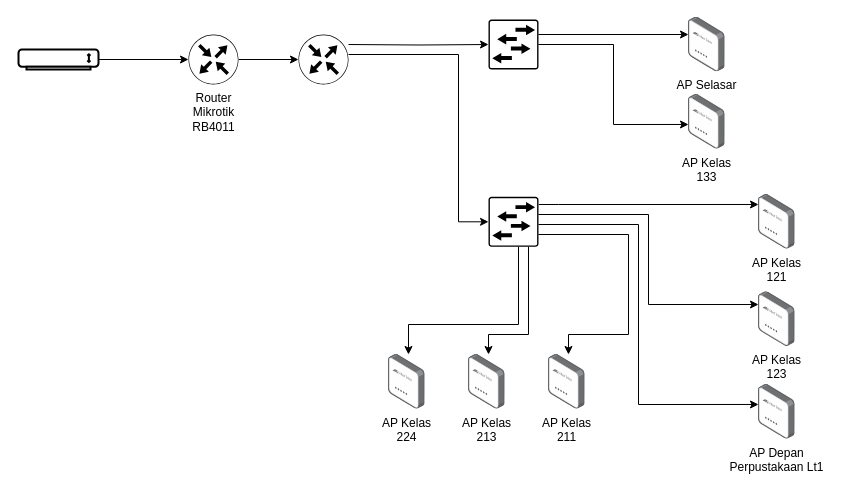
This 841x492 diagram has some shape labels left out. Here are the shapes that lost their labels. From the top down, the centre of each, then its label:
point (58, 59): Modem Nexa
point (323, 59): Router Kampus Mikrotik RB3011
point (513, 44): Switch 26P Linksys Server
point (513, 221): Switch 26P Linksys Lt2 Belakang
